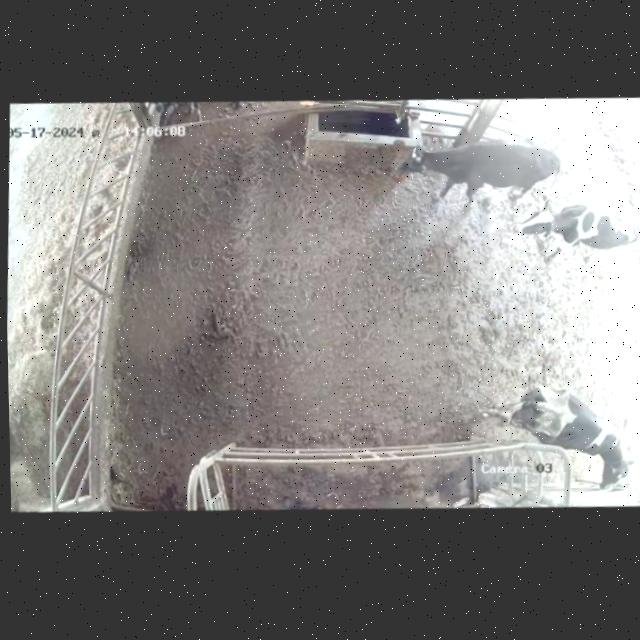stand: (466, 344, 636, 496), (374, 124, 564, 215), (498, 182, 640, 275)
